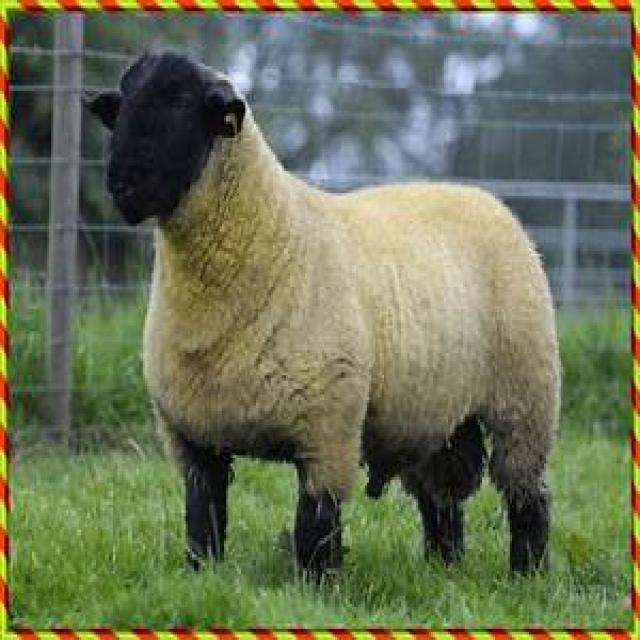sheep: (79, 47, 563, 587)
